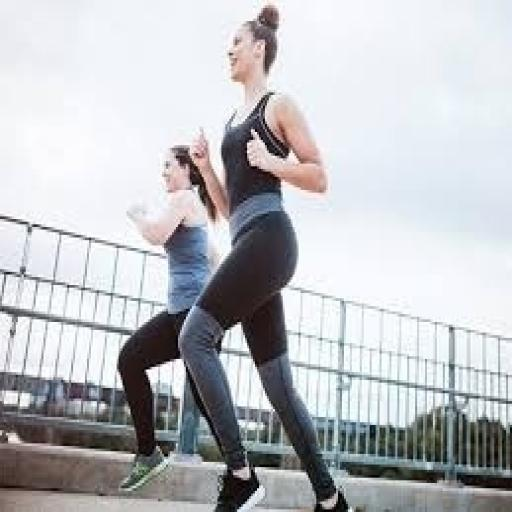running: (176, 0, 356, 509), (113, 132, 231, 496)
